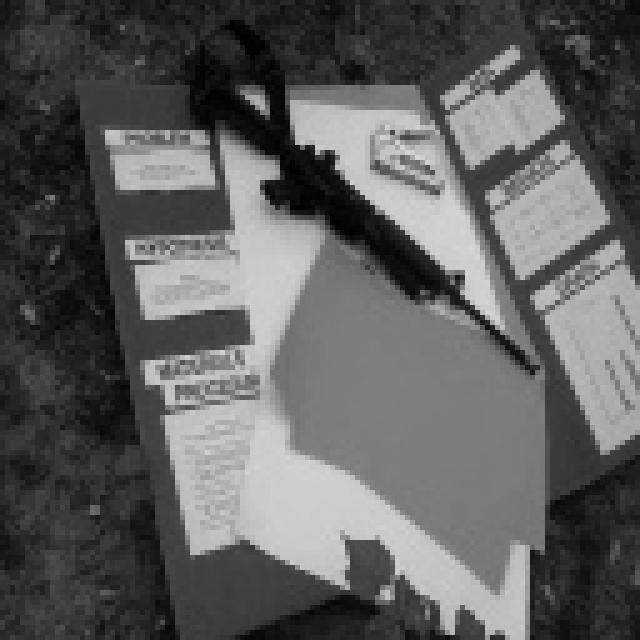Rifle: (160, 0, 571, 411)
